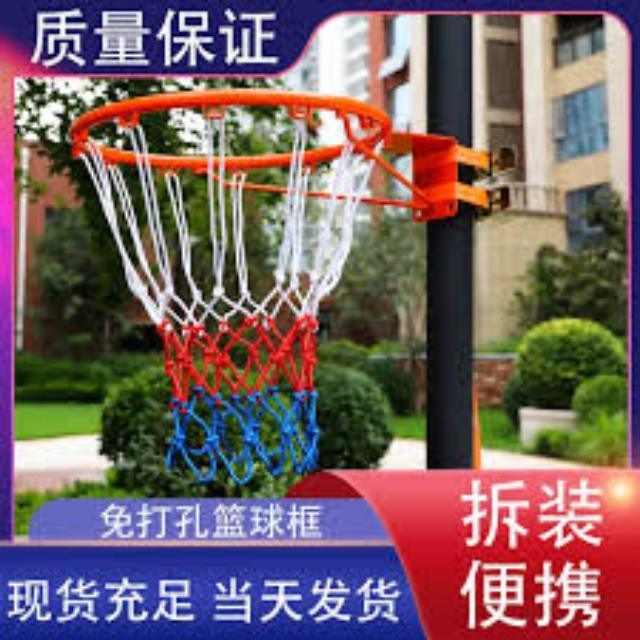rim: (72, 88, 392, 466)
